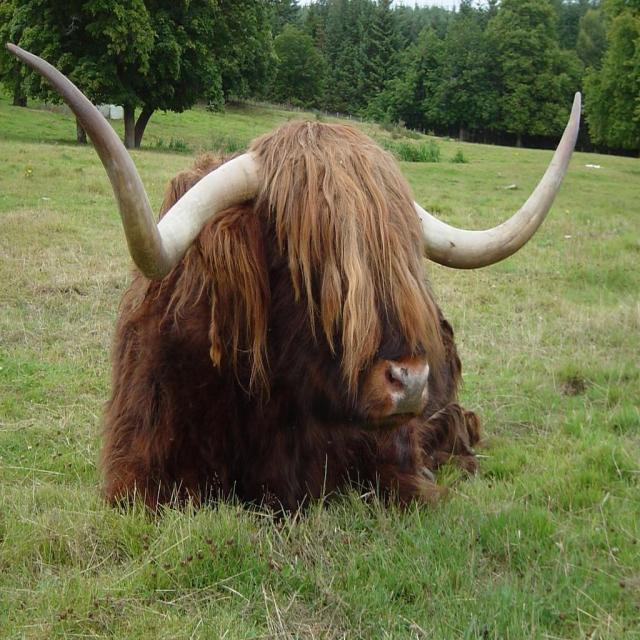Cattle: (5, 42, 581, 524)
